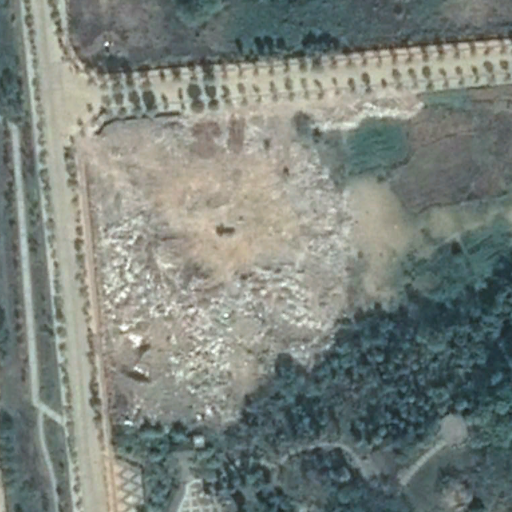msw: (93, 154, 352, 424)
